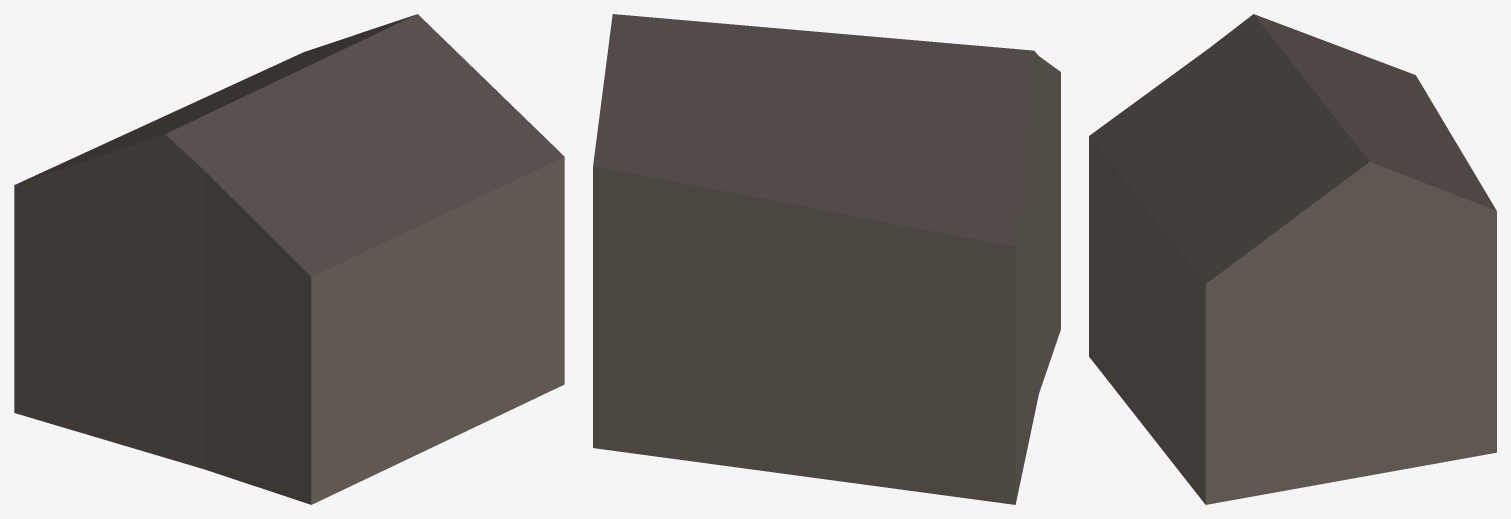
3 views of the same model, side by side, from view 1: azimuth 30°, elevation 25°; view 2: azimuth 150°, elevation 25°; view 3: azimuth 270°, elevation 25° (orthographic). The views are drawn at different scales.
Parts seen in each view (by area): view 1: HP-w1198721572; view 2: HP-w1198721572; view 3: HP-w1198721572.
Boxes of the visible parts, left/top/right/bottom form: HP-w1198721572: left=14, top=14, right=564, bottom=504; HP-w1198721572: left=593, top=14, right=1060, bottom=504; HP-w1198721572: left=1089, top=14, right=1496, bottom=504.
Size of the model in its own units: 12.19 by 8.53 by 10.05.
